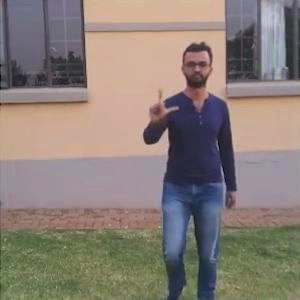land_hand: (146, 84, 179, 125)
